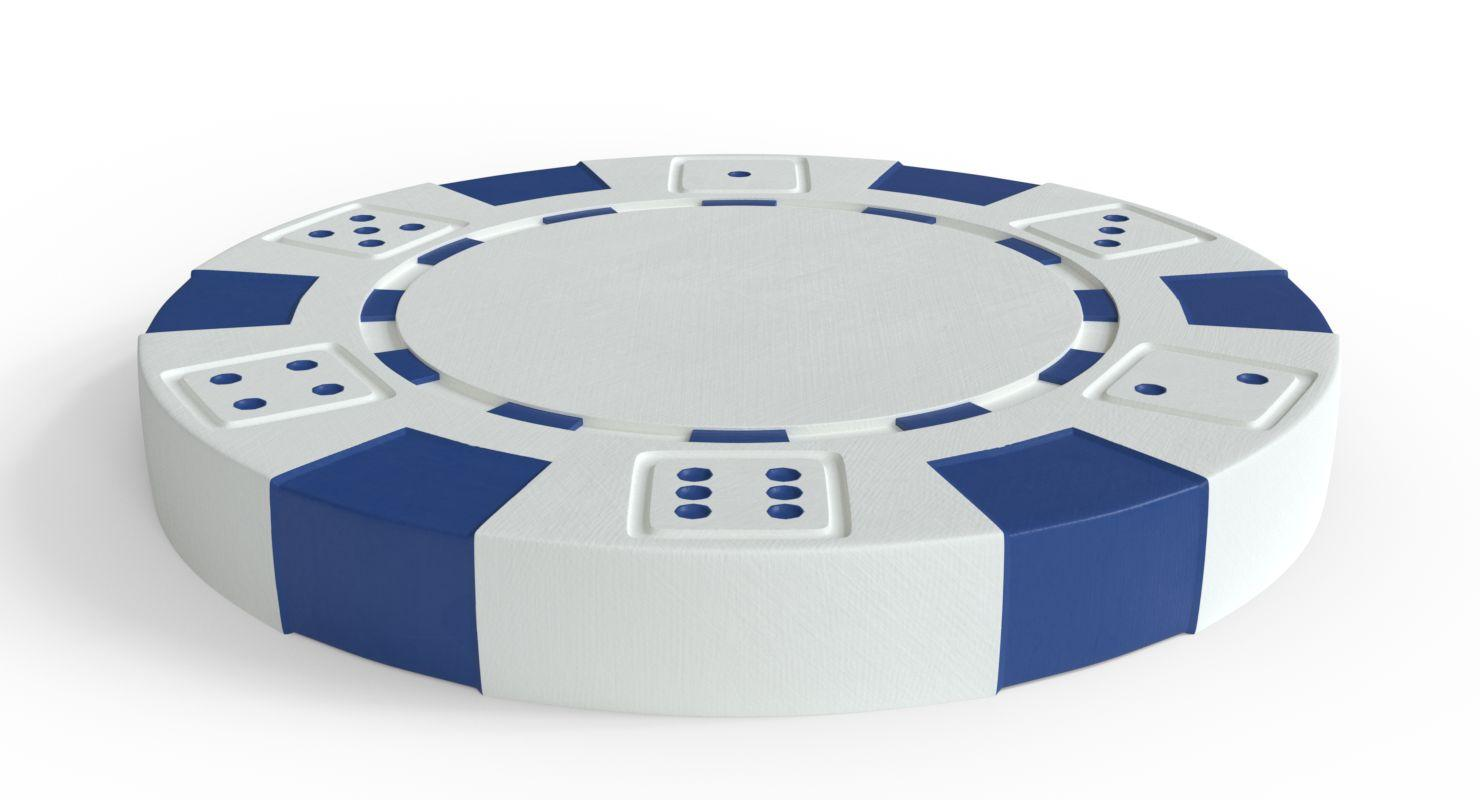chip-white: (139, 153, 1338, 714)
